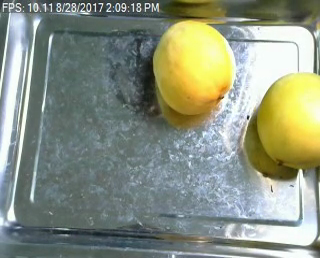Mango: (155, 21, 236, 113), (257, 72, 320, 165)
